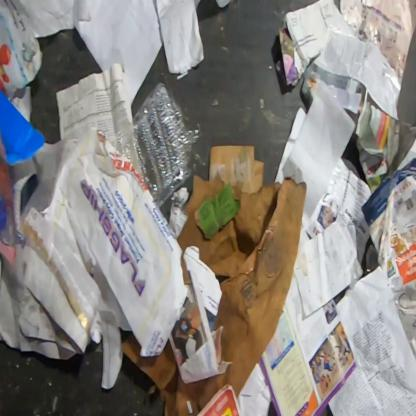cardboard: (121, 168, 308, 415), (0, 88, 46, 167), (207, 144, 264, 196)
rigid_plastic: (108, 81, 200, 209)
